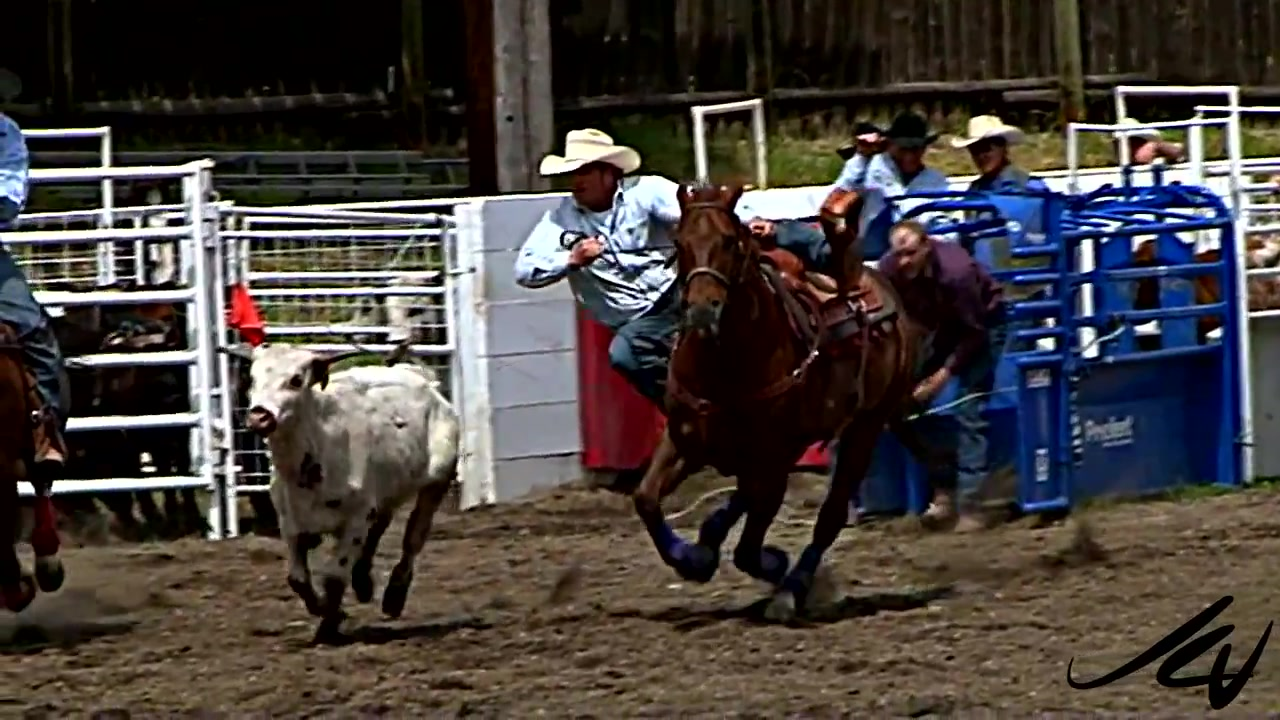horse: (632, 178, 921, 623)
